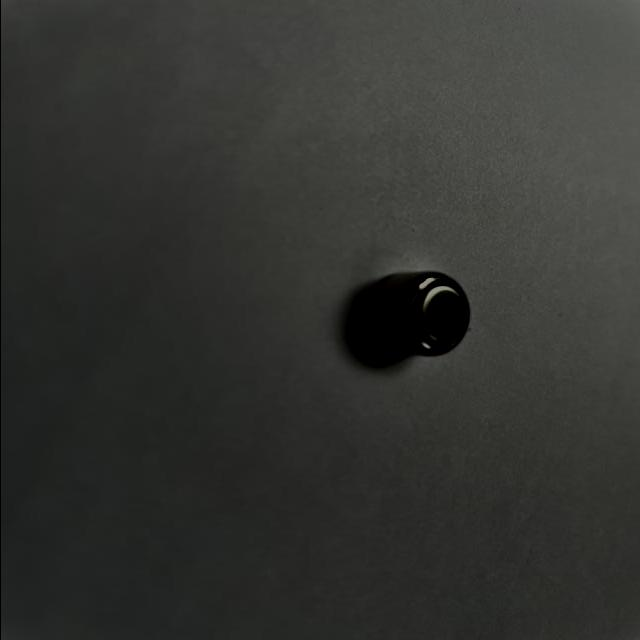COIN: (365, 270, 470, 360)
